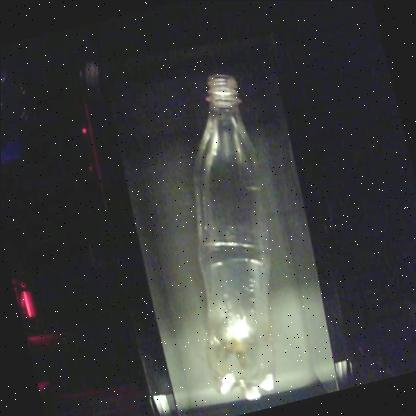Plastic Bottle: (193, 72, 273, 400)
